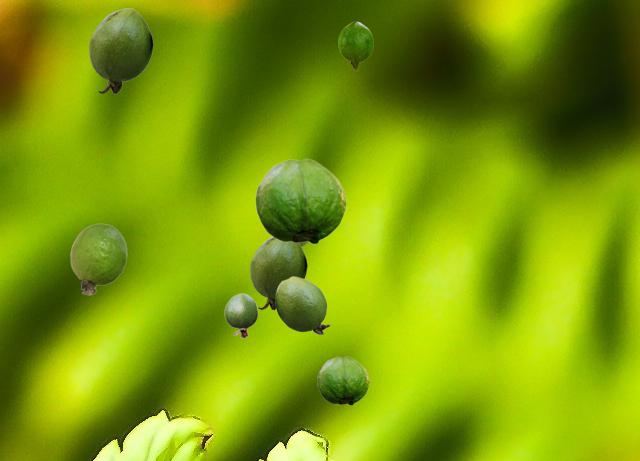guava: (255, 158, 345, 243), (89, 8, 152, 93), (250, 237, 306, 309), (70, 223, 126, 294), (275, 276, 329, 333), (317, 356, 368, 404), (338, 21, 372, 69), (224, 293, 257, 337)
